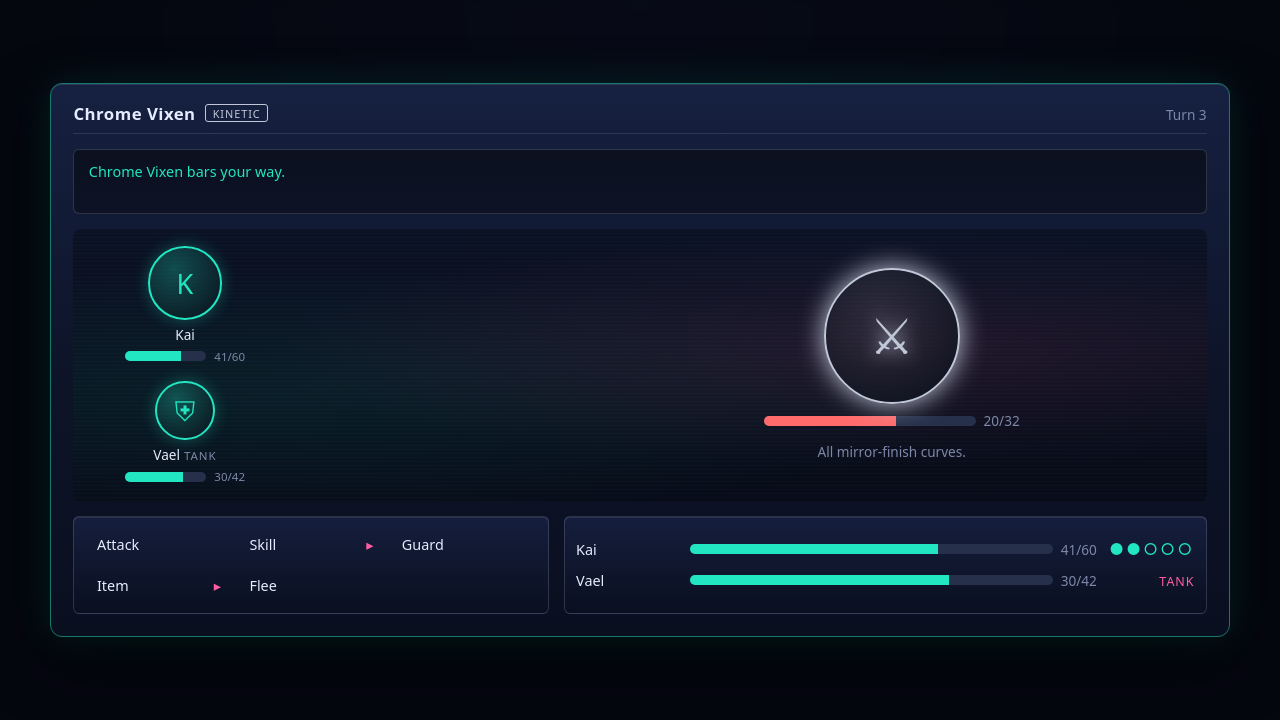
Test: BattleView › opens the skill submenu and shows cost + element
Click the button "Skill ▸": (311,544) top-left (238, 527), bottom-right (385, 562)
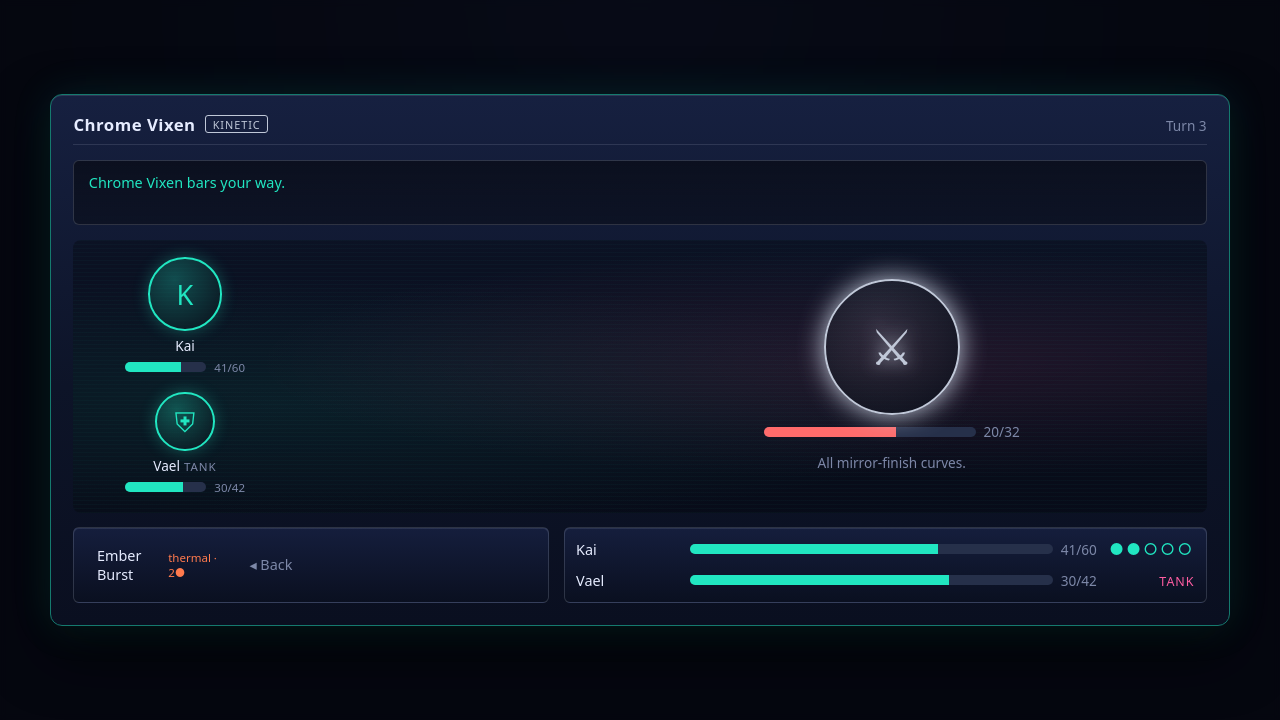
Expected: the button "Ember Burst thermal · 2●" is enabled, top-left (86, 538), bottom-right (232, 592)
Expected: the text "thermal · 2●" is shown, top-left (168, 550), bottom-right (221, 580)
Click the button "◂ Back": (311,565) top-left (238, 538), bottom-right (385, 592)
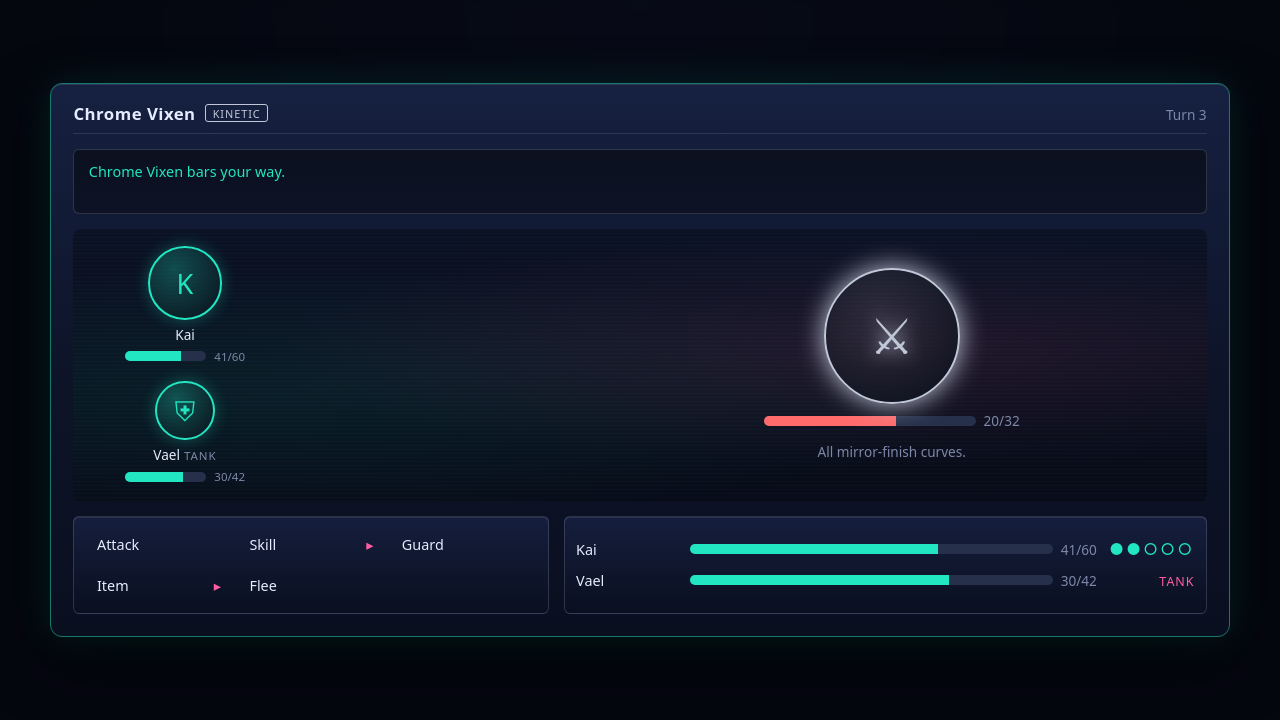
Expected: the button "Attack" is shown, top-left (86, 527), bottom-right (232, 562)
